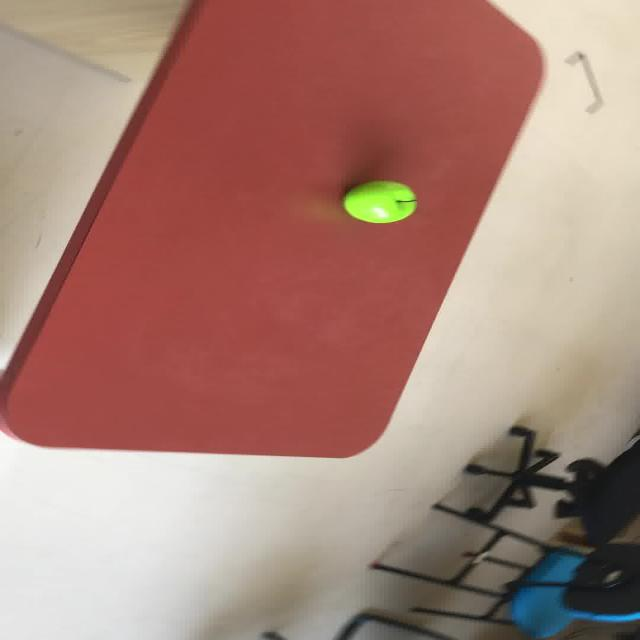apple: (341, 180, 416, 223)
